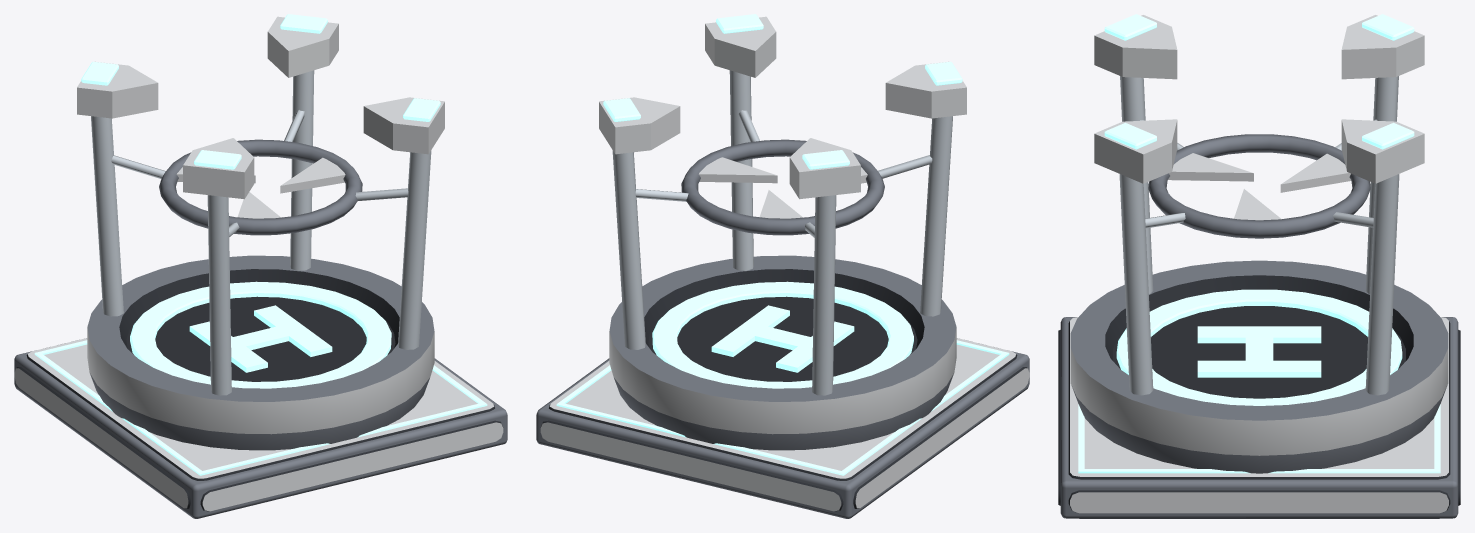
File: R4X_FlyingDroneDeployer.fbx
3 renders of one model, left to right at view 1: azimuth 30°, elevation 25°; view 2: azimuth 150°, elevation 25°; view 3: azimuth 270°, elevation 25°, orthographic. The views are drawn at different scales.
Parts seen in each view (by area): view 1: R4X_FlyingDroneDeployer_Body, R4X_FlyingDroneDeployer_Iris; view 2: R4X_FlyingDroneDeployer_Body, R4X_FlyingDroneDeployer_Iris; view 3: R4X_FlyingDroneDeployer_Body, R4X_FlyingDroneDeployer_Iris.
Part boxes in pixels (x1,y1,x2,y2): R4X_FlyingDroneDeployer_Body: (14, 14, 507, 518); R4X_FlyingDroneDeployer_Iris: (159, 139, 362, 235); R4X_FlyingDroneDeployer_Body: (536, 14, 1029, 518); R4X_FlyingDroneDeployer_Iris: (681, 139, 884, 235); R4X_FlyingDroneDeployer_Body: (1058, 14, 1460, 518); R4X_FlyingDroneDeployer_Iris: (1148, 134, 1370, 238).
Bounding box in the file's own units: 0.52 × 0.513 × 0.52.
